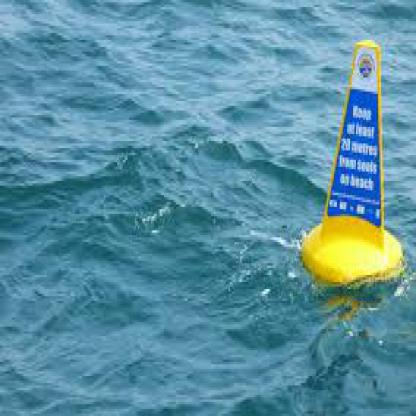buoy: (293, 28, 409, 299)
